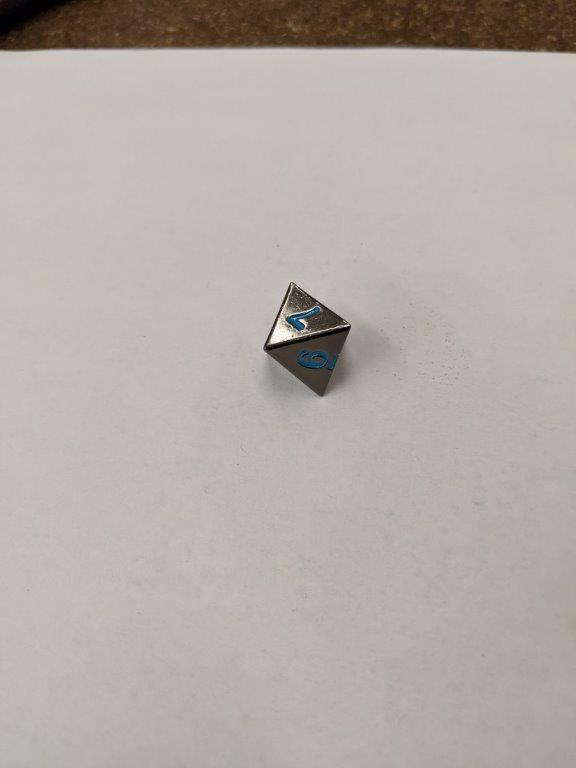d8-7: (262, 280, 353, 401)
